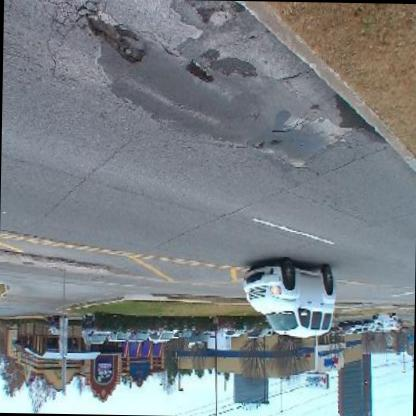pothole: (84, 10, 146, 67), (186, 62, 214, 88), (252, 138, 266, 154), (270, 138, 282, 150)
